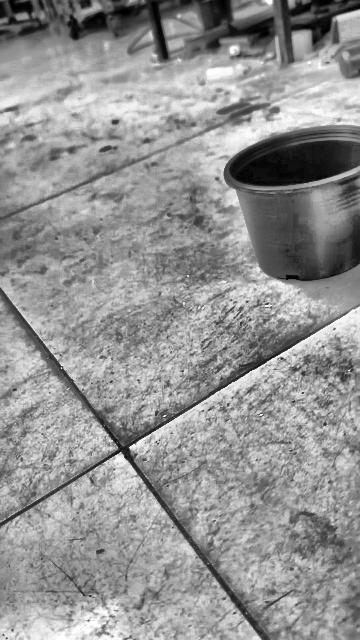pot: (224, 125, 360, 281)
